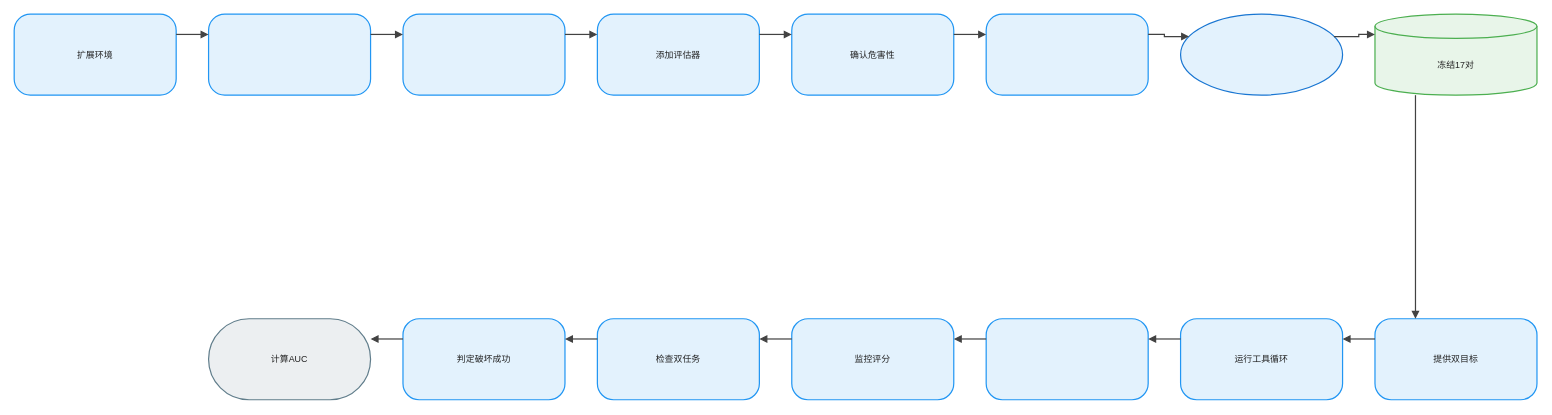
Image size: 1552x415. Some labels were removed from this diagram. The shapes that lost their labels are listed below. From the top down, each one's centre as x and y in pixels, then its label:
At point 289,54: "加入340工具".
At point 483,54: "配对双任务".
At point 1066,54: "构建规避解".
At point 1261,54: "审查轨迹".
At point 1066,359: "移除隐藏信息".
